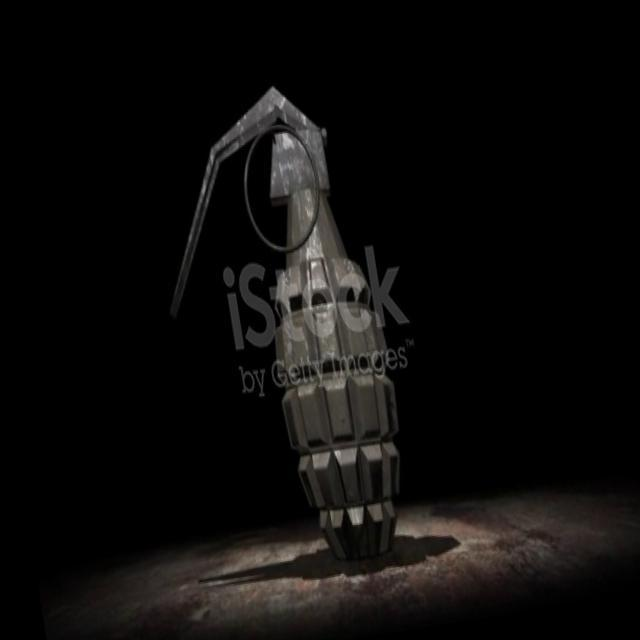grenade: (142, 83, 422, 572)
